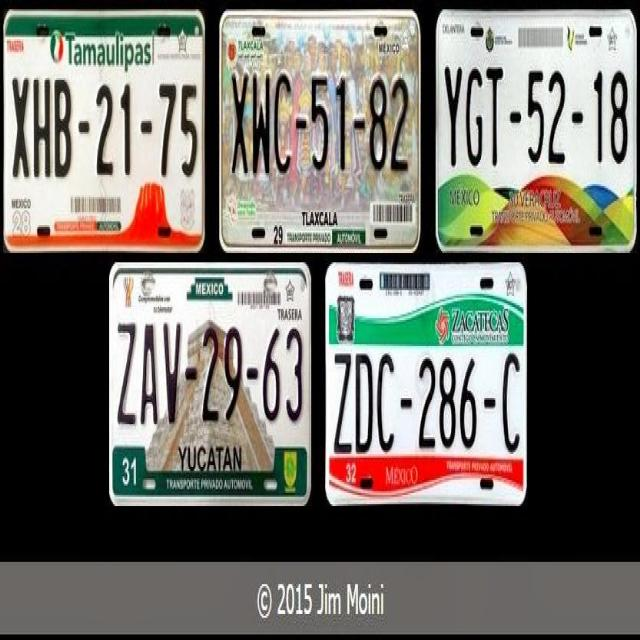placa: (220, 62, 418, 192), (3, 64, 204, 190), (438, 56, 636, 183), (110, 320, 310, 442), (326, 340, 526, 458)
